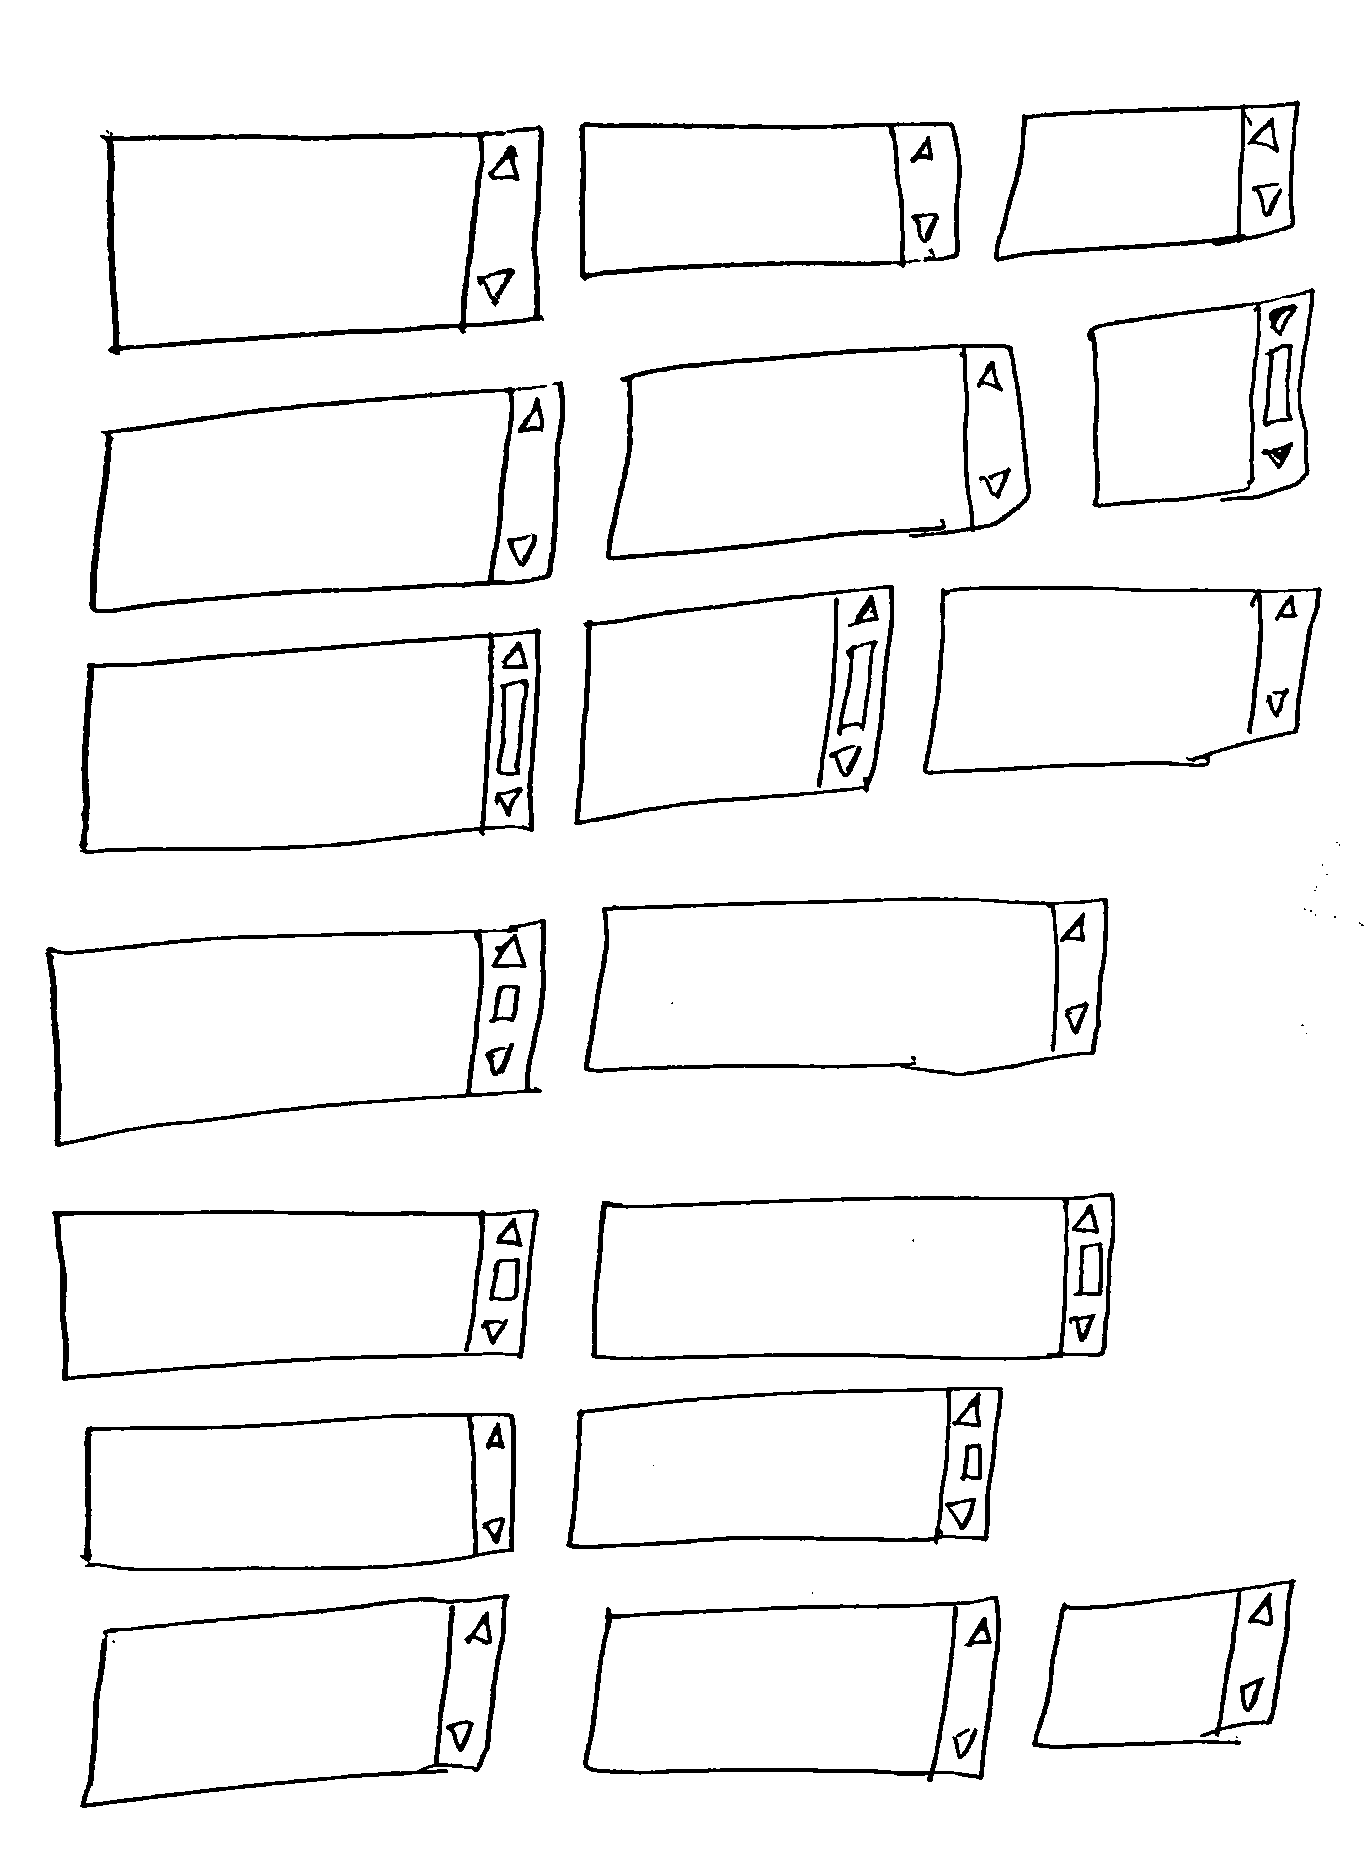Textarea: (47, 916, 548, 1152), (86, 381, 569, 619), (76, 627, 544, 857), (99, 121, 548, 356), (579, 891, 1114, 1076), (599, 337, 1031, 566), (77, 1592, 512, 1809), (586, 1192, 1122, 1365), (569, 579, 896, 829), (919, 585, 1327, 779), (580, 1594, 1002, 1781), (564, 1381, 1007, 1552), (76, 1409, 522, 1573), (575, 116, 967, 284), (1087, 281, 1317, 510), (991, 99, 1299, 265), (1031, 1573, 1296, 1752)
